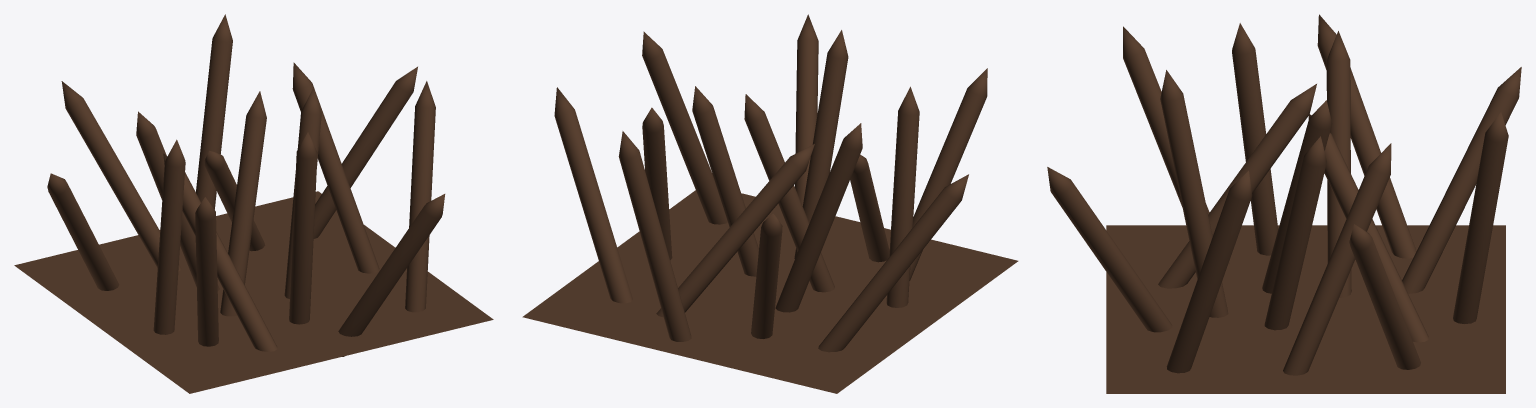
Rendered from Spikes4.fbx.
3 renders of one model, left to right at view 1: azimuth 30°, elevation 25°; view 2: azimuth 150°, elevation 25°; view 3: azimuth 270°, elevation 25°, orthographic. The views are drawn at different scales.
Visible parts, largest first — view 1: Spikes4; view 2: Spikes4; view 3: Spikes4.
Part boxes in pixels (x1=…): Spikes4: x1=14, y1=14, x2=493, y2=393; Spikes4: x1=522, y1=14, x2=1018, y2=393; Spikes4: x1=1047, y1=14, x2=1521, y2=393.
Size of the model in its own units: 315 by 183 by 297.
